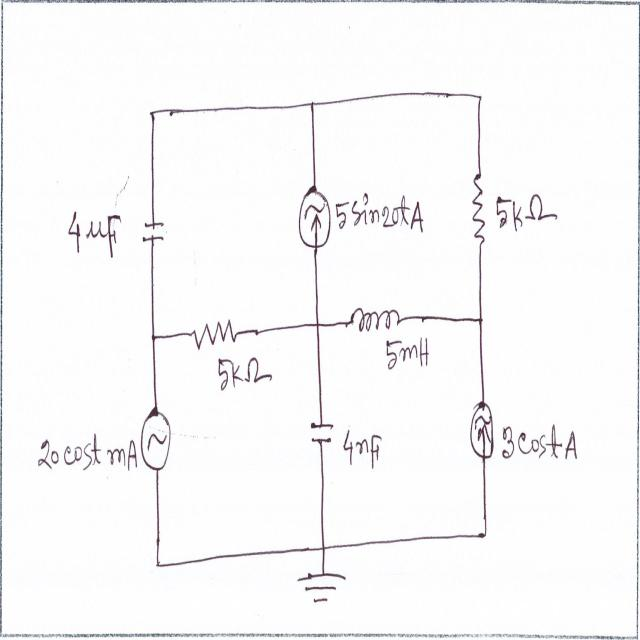ac_current: (139, 403, 179, 481)
capacitor: (141, 213, 168, 253), (308, 413, 336, 451)
current_source: (296, 187, 333, 254), (466, 395, 496, 464)
ground: (297, 565, 346, 606)
inductor: (347, 294, 402, 338)
resistor: (192, 308, 242, 358), (467, 165, 489, 252)
